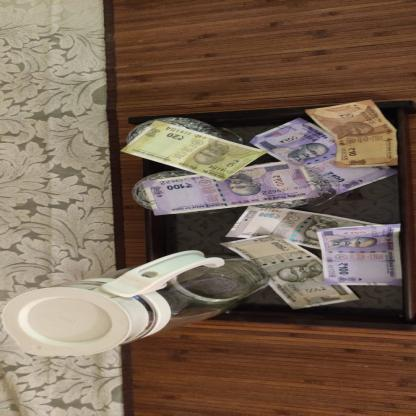New100Front: (249, 117, 400, 194), (140, 160, 321, 216), (317, 223, 404, 286)
New10Front: (305, 99, 399, 168)
New20Front: (119, 120, 269, 182)
New500Front: (219, 233, 360, 310), (225, 206, 382, 250)
